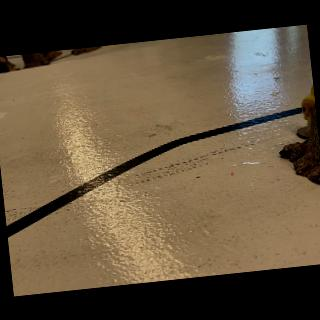teletubby: (301, 84, 315, 132)
